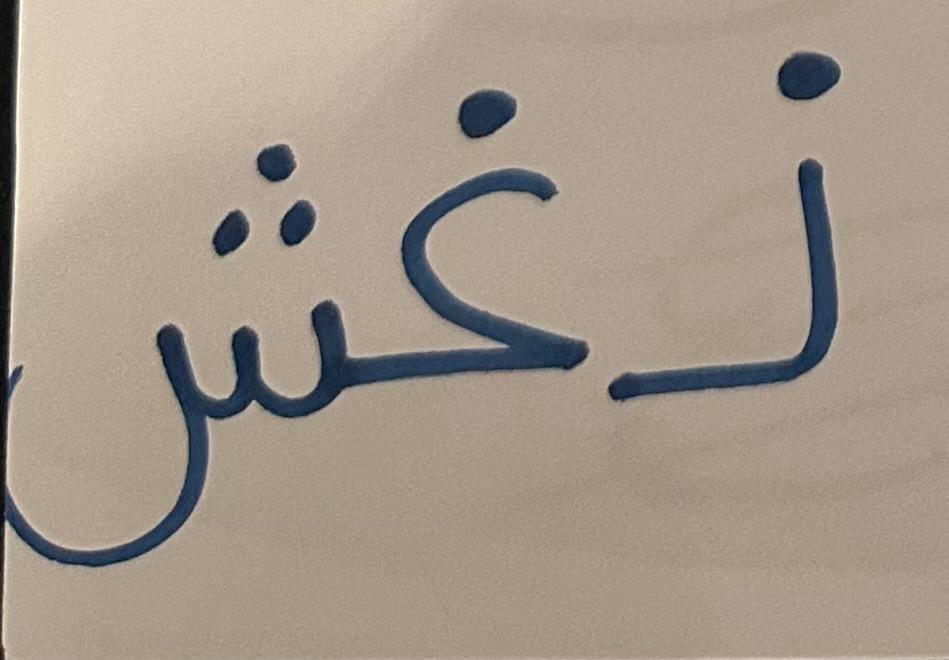ain: (601, 15, 911, 450)
ghain: (361, 43, 594, 450)
tah: (13, 73, 358, 607)
